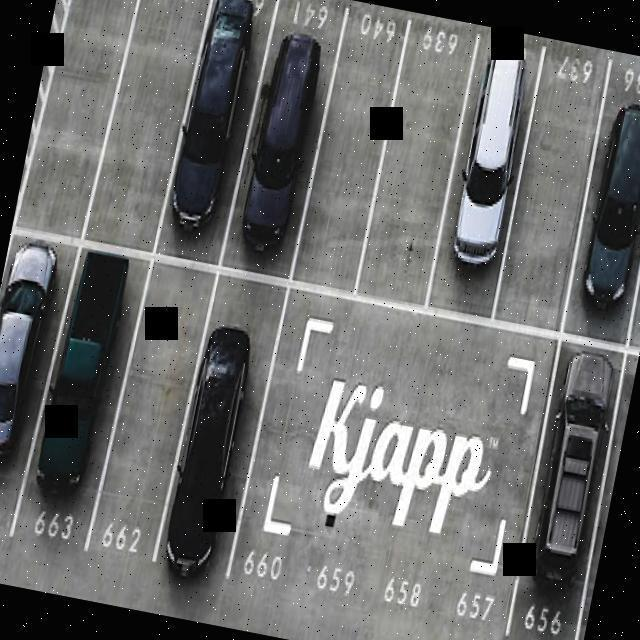car: (494, 330, 633, 640), (16, 228, 149, 551), (152, 268, 286, 588), (216, 0, 346, 284), (428, 29, 544, 301), (156, 0, 277, 246), (557, 68, 640, 342), (0, 224, 75, 525)
free: (292, 294, 424, 617), (363, 308, 498, 622), (88, 250, 219, 568), (438, 322, 562, 638), (232, 286, 361, 586), (352, 11, 478, 300), (495, 48, 616, 323), (83, 0, 219, 244), (288, 15, 408, 286), (15, 0, 144, 226)
